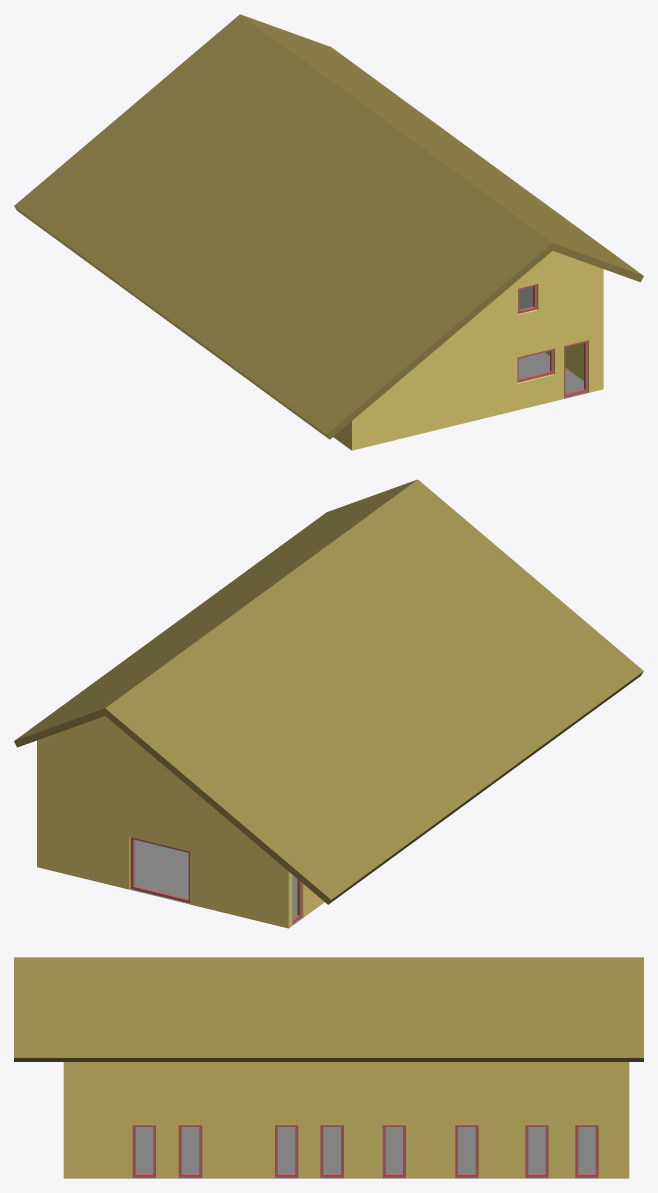
File: result.glb
3 renders of one model, top to bottom at view 1: azimuth 30°, elevation 25°; view 2: azimuth 150°, elevation 25°; view 3: azimuth 270°, elevation 25°, orthographic.
Parts seen in each view (by area): view 1: 4a90037c-1dc7-4a49-aae4-37e9a8d47179__undefined (×2), 0b05ec13-a159-4862-ba24-fa9a17dd368d__undefined, db051aad-7167-45c2-8113-d4f65efb90bc__Plane_36; view 2: 4a90037c-1dc7-4a49-aae4-37e9a8d47179__undefined (×2), 0b05ec13-a159-4862-ba24-fa9a17dd368d__undefined, db051aad-7167-45c2-8113-d4f65efb90bc__Plane_36, 2ad51740-0dbb-44eb-bf1a-60b8d82243b7__Box_9; view 3: 4a90037c-1dc7-4a49-aae4-37e9a8d47179__undefined, 0b05ec13-a159-4862-ba24-fa9a17dd368d__undefined, db051aad-7167-45c2-8113-d4f65efb90bc__Plane_36, 36d7a617-3104-482b-8ad6-3435f699d75f__Box_63, 8623cc16-7392-42d0-bd07-bc18d36c2886__Box_78, ab84528f-6ef3-4926-bcca-83aa4807cb9c__Box_81, 1d808d02-f11e-4b35-a6de-04512918bea6__Box_60, 81549e5f-24e6-4840-b61e-d1765d77dfc8__Box_66, fe8d7089-c766-4725-9970-6e58147f2541__Box_69, b1392d8f-6871-4ef6-a40a-ebb474f26d68__Box_72, 28c32c8d-5523-451b-9d23-6d3f8d3901b2__Box_75.
Boxes of the visible parts, x1=… form: 4a90037c-1dc7-4a49-aae4-37e9a8d47179__undefined (×2): x1=14, y1=14, x2=643, y2=439; 0b05ec13-a159-4862-ba24-fa9a17dd368d__undefined: x1=333, y1=251, x2=603, y2=450; db051aad-7167-45c2-8113-d4f65efb90bc__Plane_36: x1=518, y1=352, x2=588, y2=398; 4a90037c-1dc7-4a49-aae4-37e9a8d47179__undefined (×2): x1=14, y1=479, x2=643, y2=904; 0b05ec13-a159-4862-ba24-fa9a17dd368d__undefined: x1=37, y1=716, x2=324, y2=928; db051aad-7167-45c2-8113-d4f65efb90bc__Plane_36: x1=130, y1=840, x2=302, y2=925; 2ad51740-0dbb-44eb-bf1a-60b8d82243b7__Box_9: x1=130, y1=837, x2=189, y2=903; 4a90037c-1dc7-4a49-aae4-37e9a8d47179__undefined: x1=14, y1=957, x2=643, y2=1061; 0b05ec13-a159-4862-ba24-fa9a17dd368d__undefined: x1=63, y1=1062, x2=629, y2=1178; db051aad-7167-45c2-8113-d4f65efb90bc__Plane_36: x1=132, y1=1127, x2=598, y2=1178; 36d7a617-3104-482b-8ad6-3435f699d75f__Box_63: x1=178, y1=1125, x2=202, y2=1177; 8623cc16-7392-42d0-bd07-bc18d36c2886__Box_78: x1=525, y1=1125, x2=548, y2=1177; ab84528f-6ef3-4926-bcca-83aa4807cb9c__Box_81: x1=575, y1=1125, x2=598, y2=1177; 1d808d02-f11e-4b35-a6de-04512918bea6__Box_60: x1=132, y1=1125, x2=155, y2=1177; 81549e5f-24e6-4840-b61e-d1765d77dfc8__Box_66: x1=275, y1=1125, x2=298, y2=1177; fe8d7089-c766-4725-9970-6e58147f2541__Box_69: x1=320, y1=1125, x2=343, y2=1177; b1392d8f-6871-4ef6-a40a-ebb474f26d68__Box_72: x1=382, y1=1125, x2=405, y2=1177; 28c32c8d-5523-451b-9d23-6d3f8d3901b2__Box_75: x1=455, y1=1125, x2=478, y2=1177.
Bounding box in the file's own units: 1258 × 692 × 2147.
